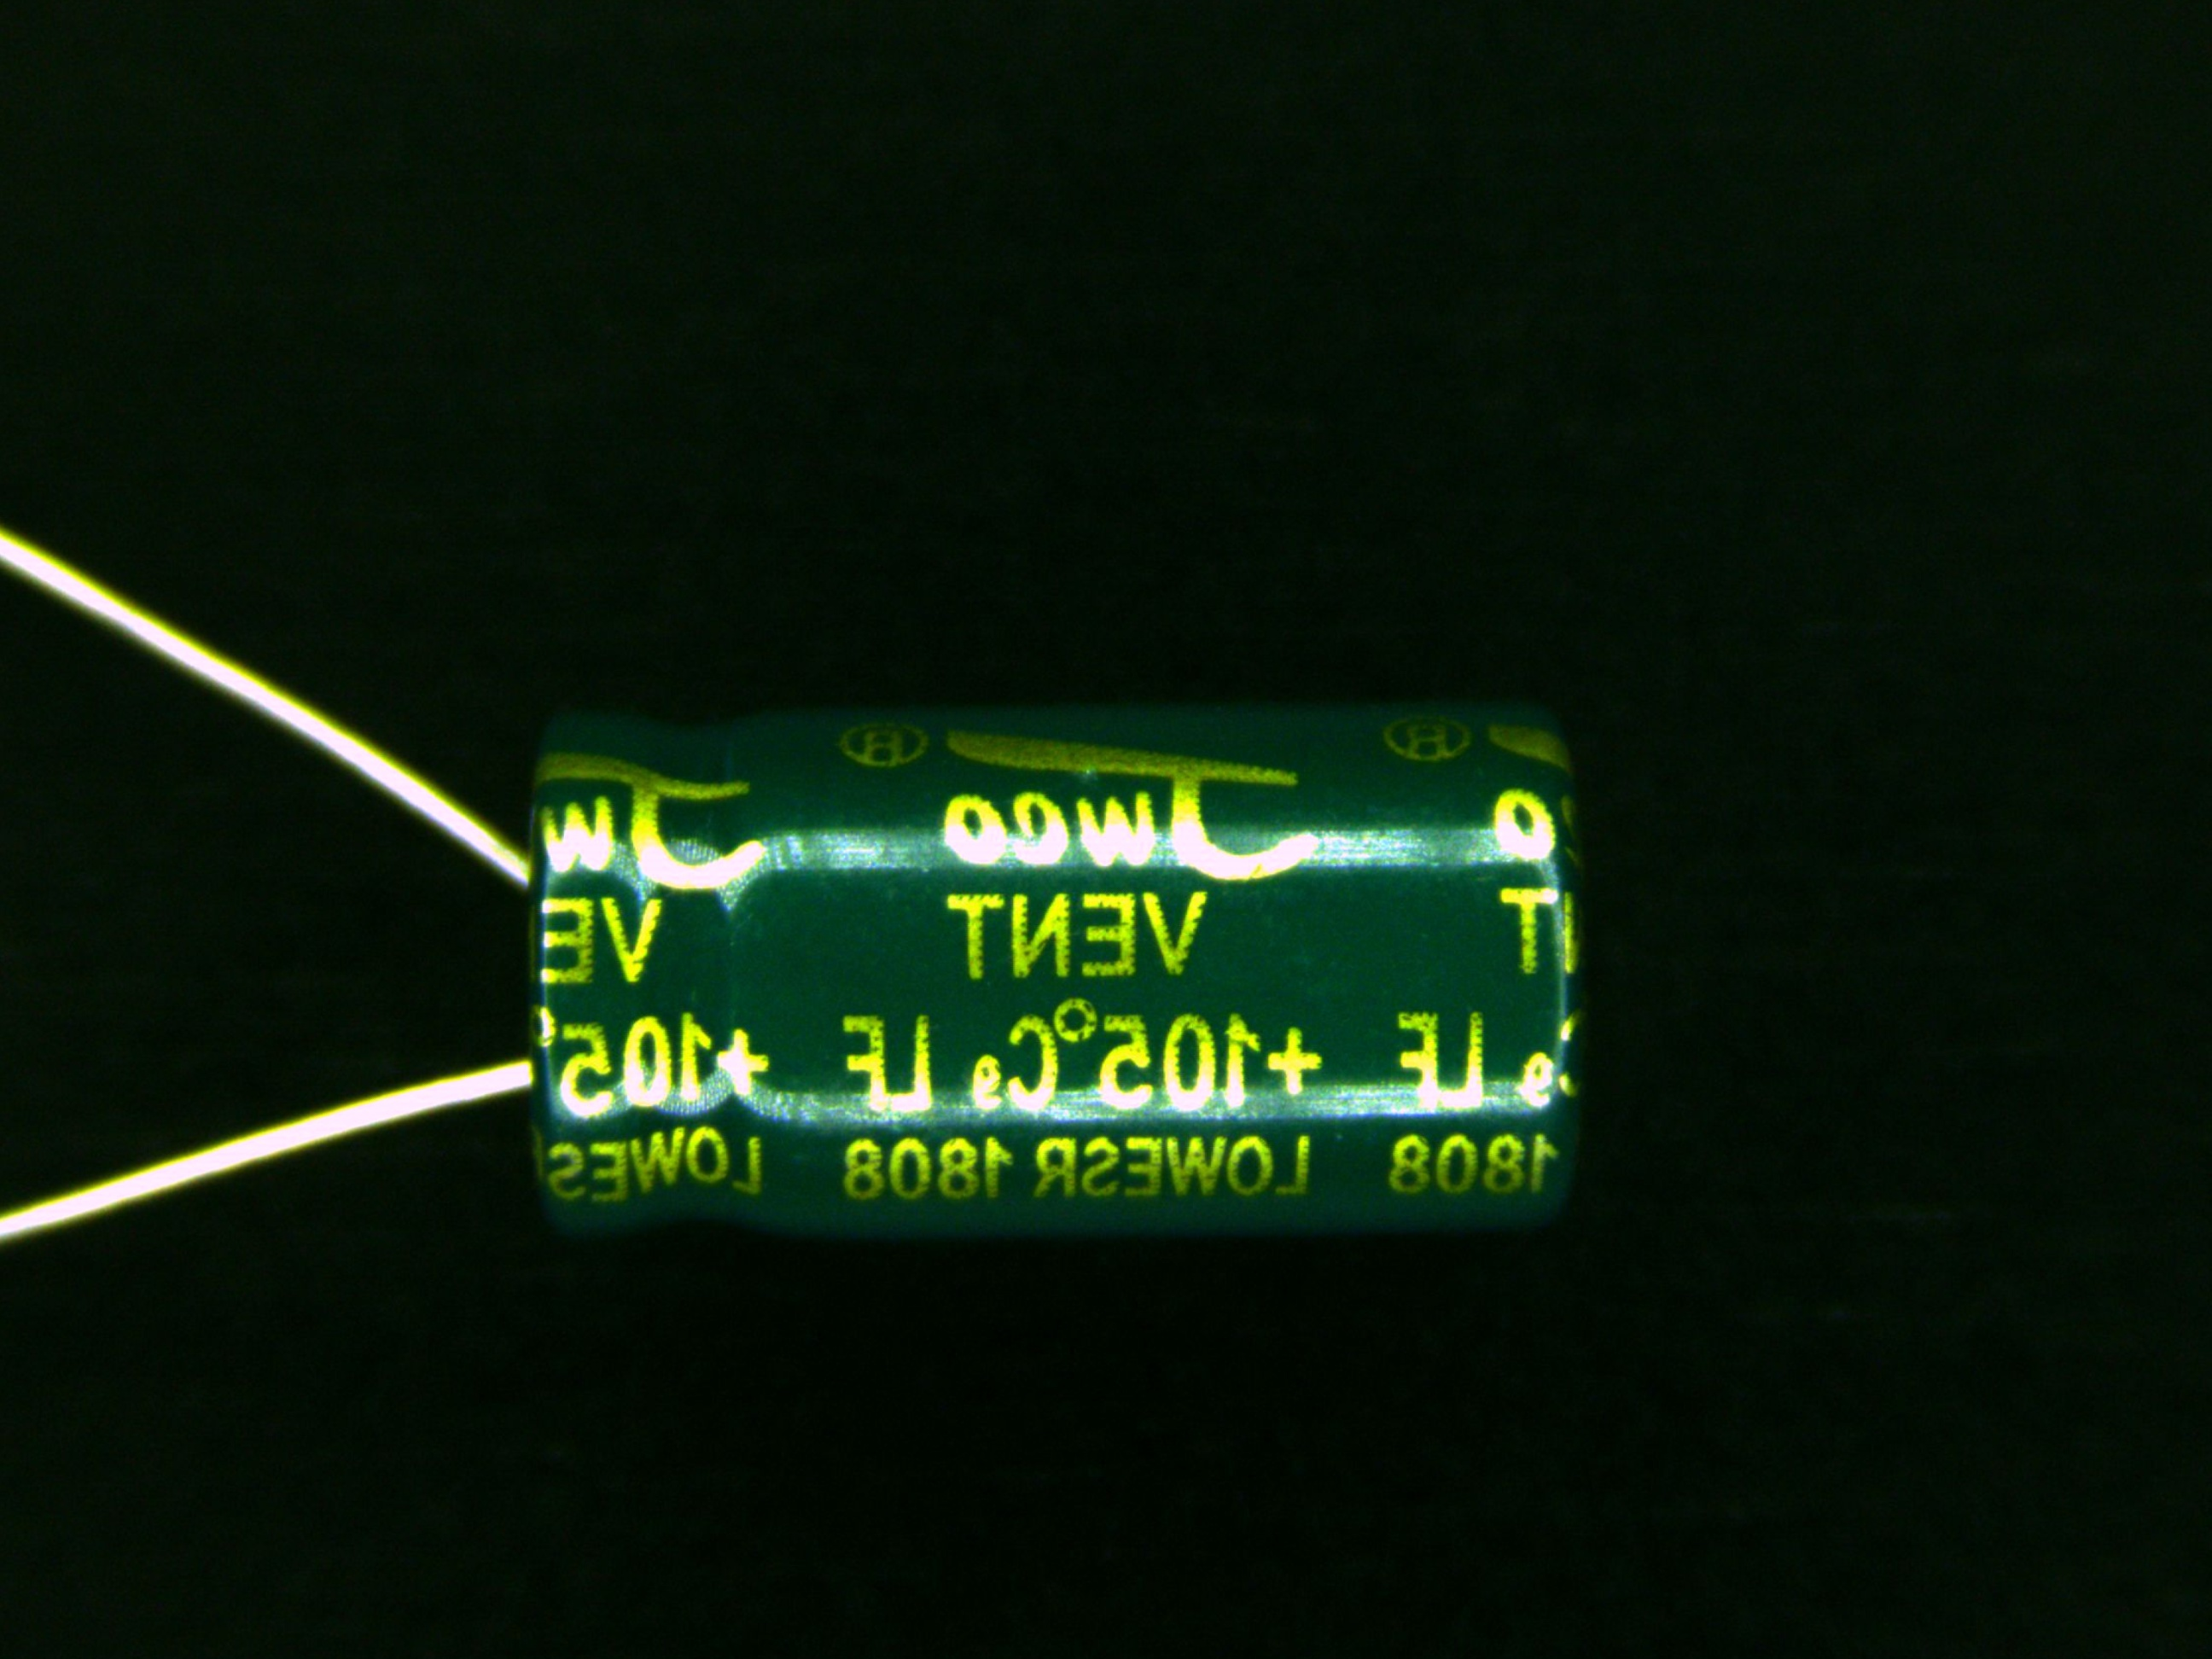c1: (312, 697, 1581, 1256)
